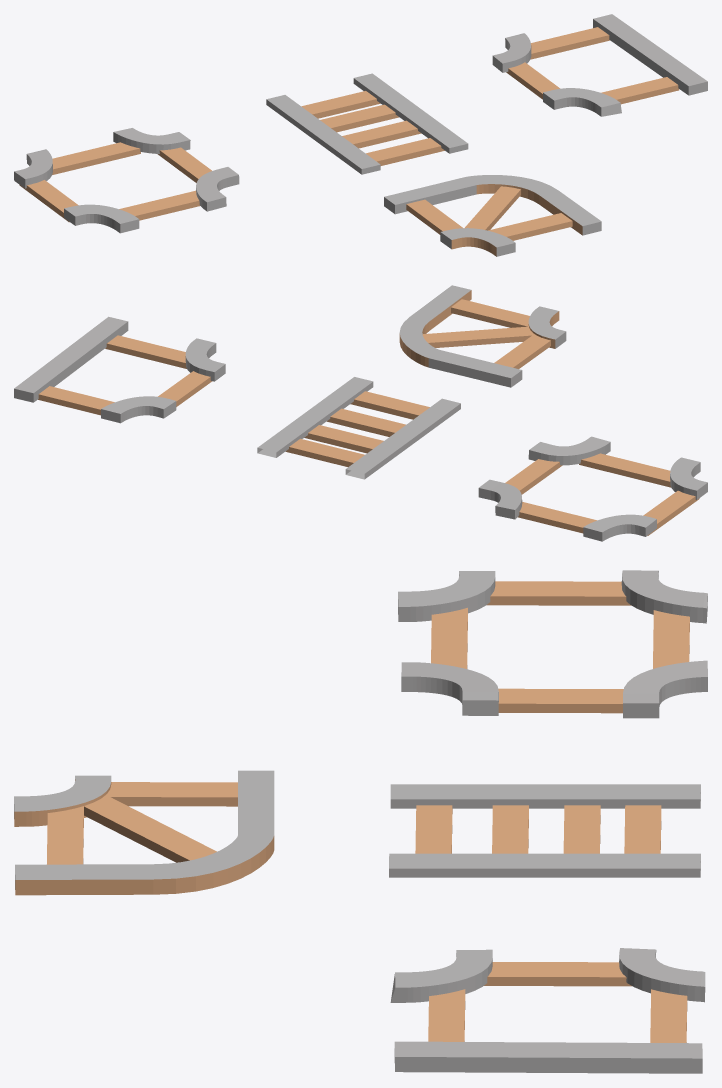
Rendered from RailFixed.fbx.
3 views of the same model, one above another, from view 1: azimuth 30°, elevation 25°; view 2: azimuth 150°, elevation 25°; view 3: azimuth 270°, elevation 25° (orthographic). The views are drawn at different scales.
Visible parts, largest first — view 1: Rail_Straight.001, Rail_4Way, Rail_Turn, Rail_3Way; view 2: Rail_4Way, Rail_Straight.001, Rail_Turn, Rail_3Way; view 3: Rail_4Way, Rail_3Way, Rail_Straight.001, Rail_Turn.
Part boxes in pixels (x1,y1,x2,y2): Rail_Straight.001: (266, 73, 468, 174); Rail_4Way: (14, 128, 239, 233); Rail_Turn: (384, 175, 601, 256); Rail_3Way: (492, 14, 707, 116); Rail_4Way: (478, 436, 707, 541); Rail_Straight.001: (257, 377, 460, 479); Rail_Turn: (399, 285, 566, 387); Rail_3Way: (14, 316, 225, 423); Rail_4Way: (398, 570, 707, 718); Rail_3Way: (390, 948, 705, 1073); Rail_Straight.001: (389, 784, 700, 877); Rail_Turn: (14, 770, 274, 895).
Size of the model in its own units: 742 by 14.55 by 448.
